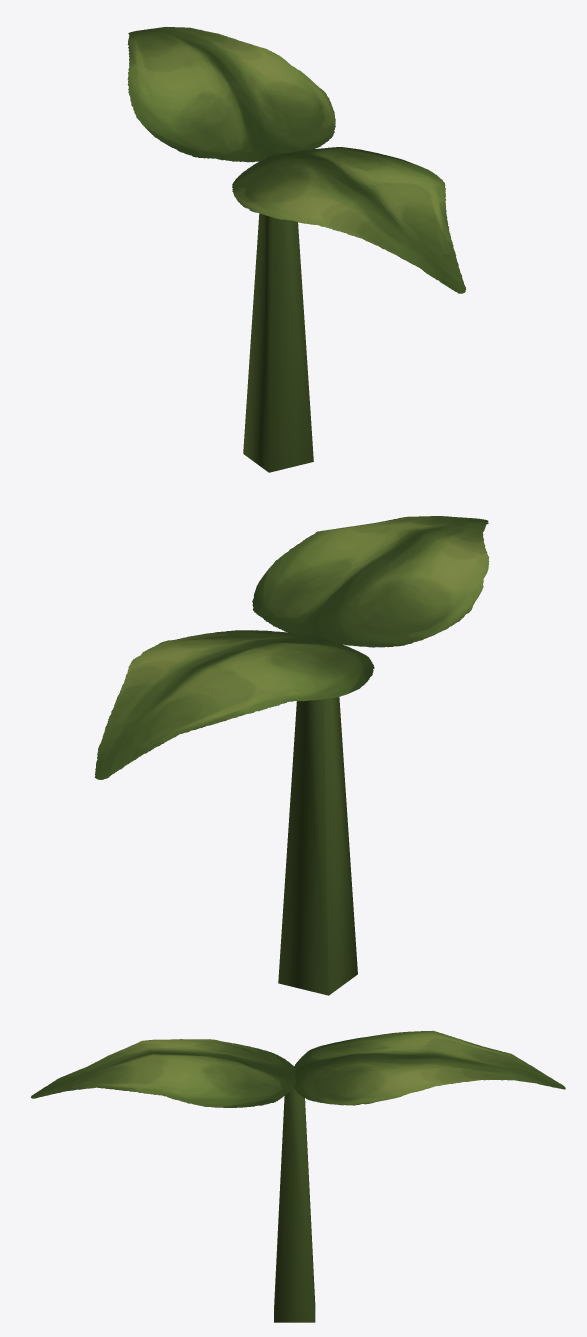
The model's file is Universal Sprout.fbx.
3 renders of one model, top to bottom at view 1: azimuth 30°, elevation 25°; view 2: azimuth 150°, elevation 25°; view 3: azimuth 270°, elevation 25°, orthographic. The views are drawn at different scales.
Visible parts, largest first — view 1: Cube; view 2: Cube; view 3: Cube.
Part boxes in pixels (x1,y1,x2,y2): Cube: [127, 27, 465, 472]; Cube: [94, 516, 489, 995]; Cube: [31, 1030, 565, 1322].
Size of the model in its own units: 7.35 by 10.07 by 19.06.
